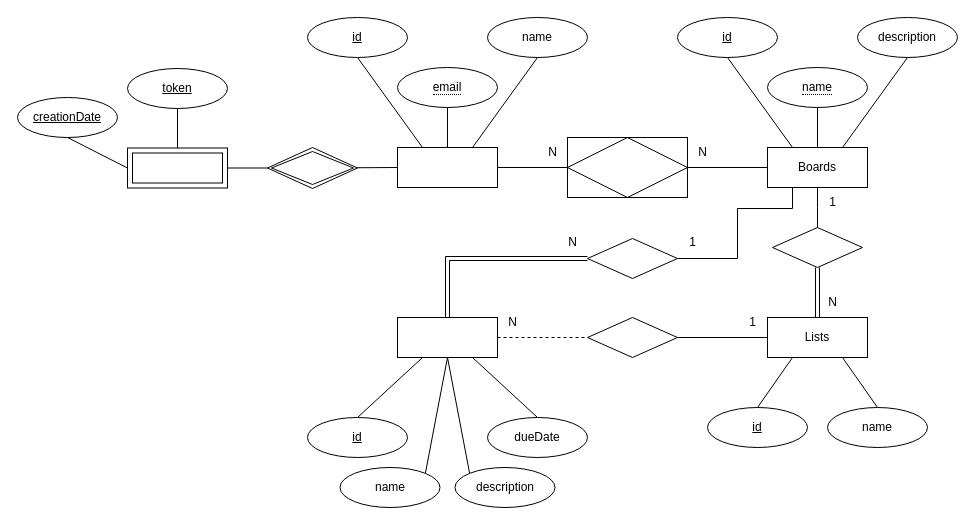
This 975x525 diagram has some shape labels left out. The box of each missing label's shape, as (x1, y1, x2, y2) in pixels:
attributed: (266, 146, 358, 188)
Cards: (396, 316, 498, 358)
contains: (772, 226, 862, 268)
has: (586, 316, 678, 358)
part of: (586, 238, 678, 278)
Users: (396, 146, 498, 188)
UsersBoards: (566, 136, 688, 198)
UsersTokens: (126, 147, 228, 188)
